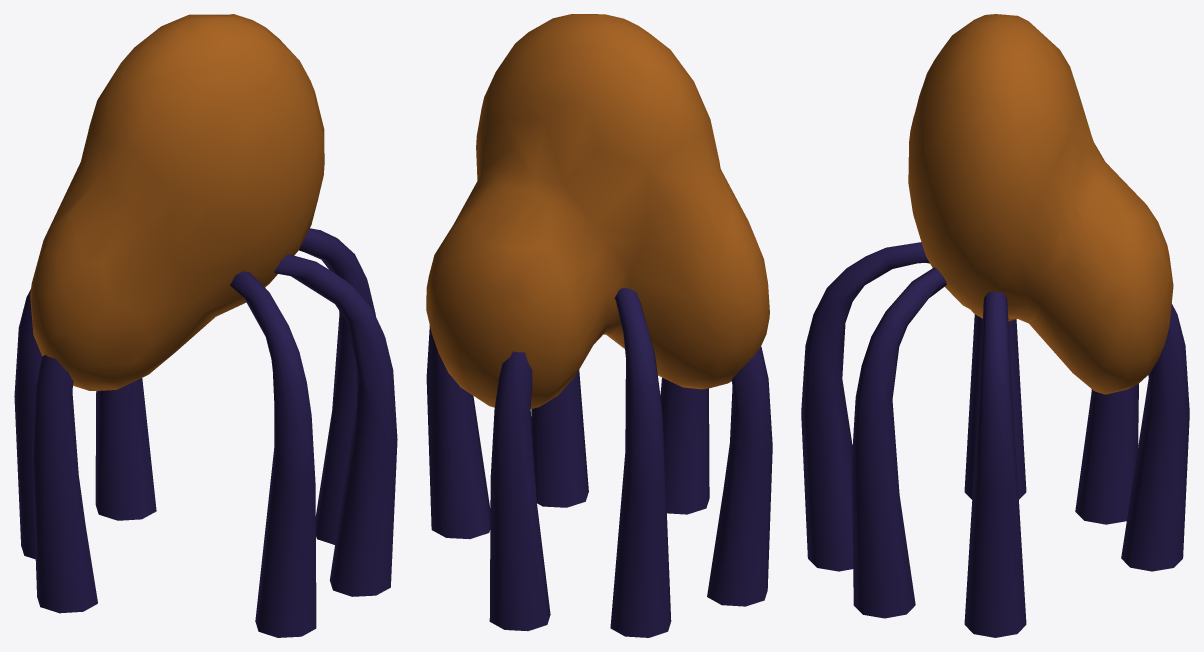
File: tree-blob-1.glb
The picture shows the model from 3 angles, left to right: view 1: azimuth 30°, elevation 25°; view 2: azimuth 150°, elevation 25°; view 3: azimuth 270°, elevation 25°; orthographic projection. The views are drawn at different scales.
Visible parts, largest first — view 1: Tree_Blob_1; view 2: Tree_Blob_1; view 3: Tree_Blob_1.
Boxes of the visible parts, left/top/right/bottom form: Tree_Blob_1: left=14, top=14, right=397, bottom=637; Tree_Blob_1: left=426, top=14, right=772, bottom=637; Tree_Blob_1: left=801, top=14, right=1189, bottom=637.
Bounding box in the file's own units: 3.86 × 5.88 × 3.86.
